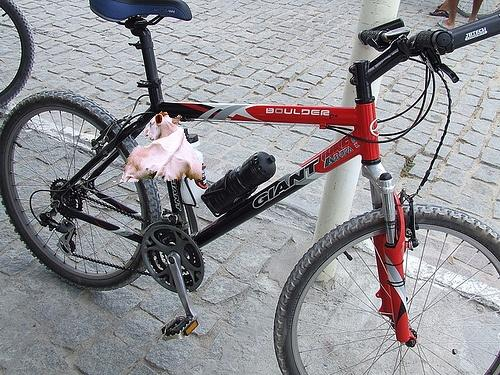tampered: (114, 112, 202, 182)
